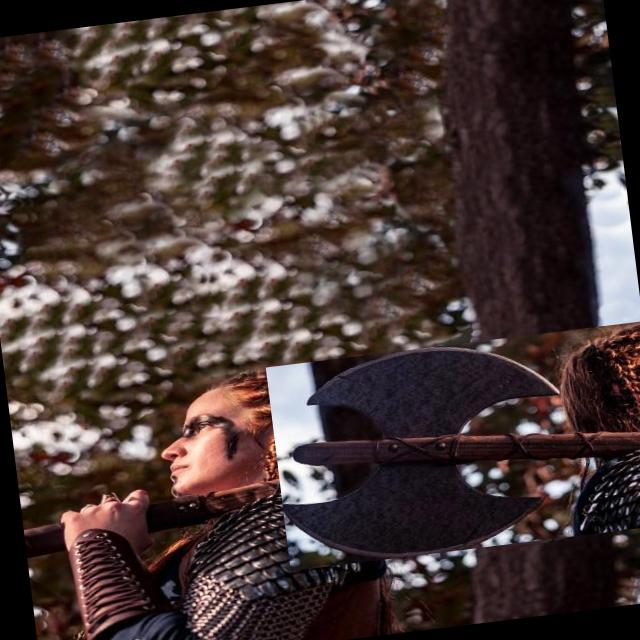Axe: (283, 348, 640, 557), (147, 482, 275, 530)
